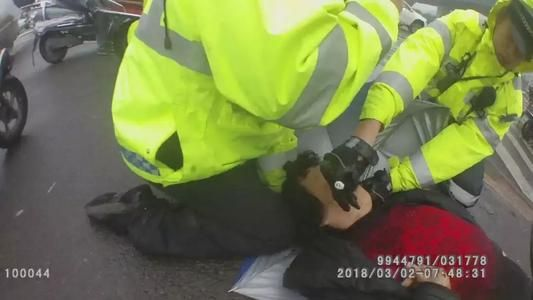fall: (281, 121, 524, 300)
